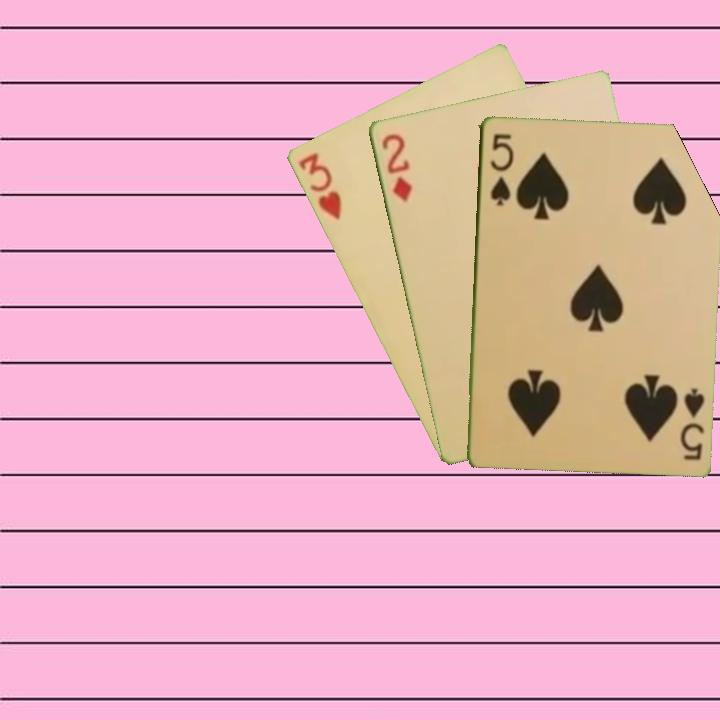2d: (377, 130, 415, 205)
3h: (294, 148, 344, 223)
5s: (676, 384, 707, 463), (486, 130, 515, 208)
